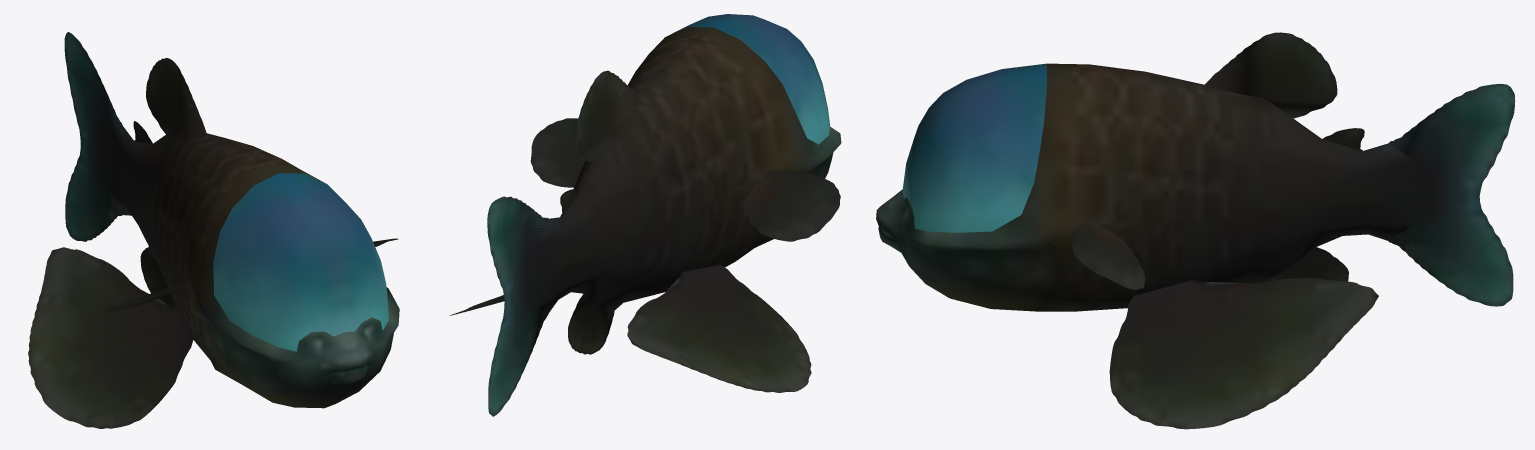
File: barreleye.glb
3 views of the same model, side by side, from view 1: azimuth 30°, elevation 25°; view 2: azimuth 150°, elevation 25°; view 3: azimuth 270°, elevation 25° (orthographic). The views are drawn at different scales.
Size of the model in its own units: 2.8 by 2.55 by 4.38.
Materials: 2 (2 with a texture image).
